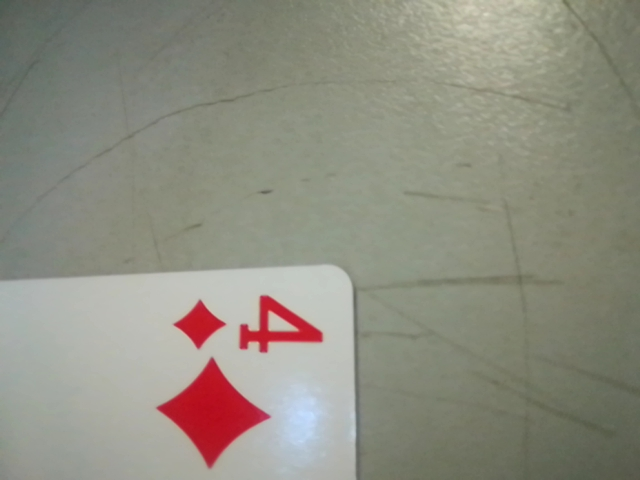fk 4: (173, 290, 333, 358)
